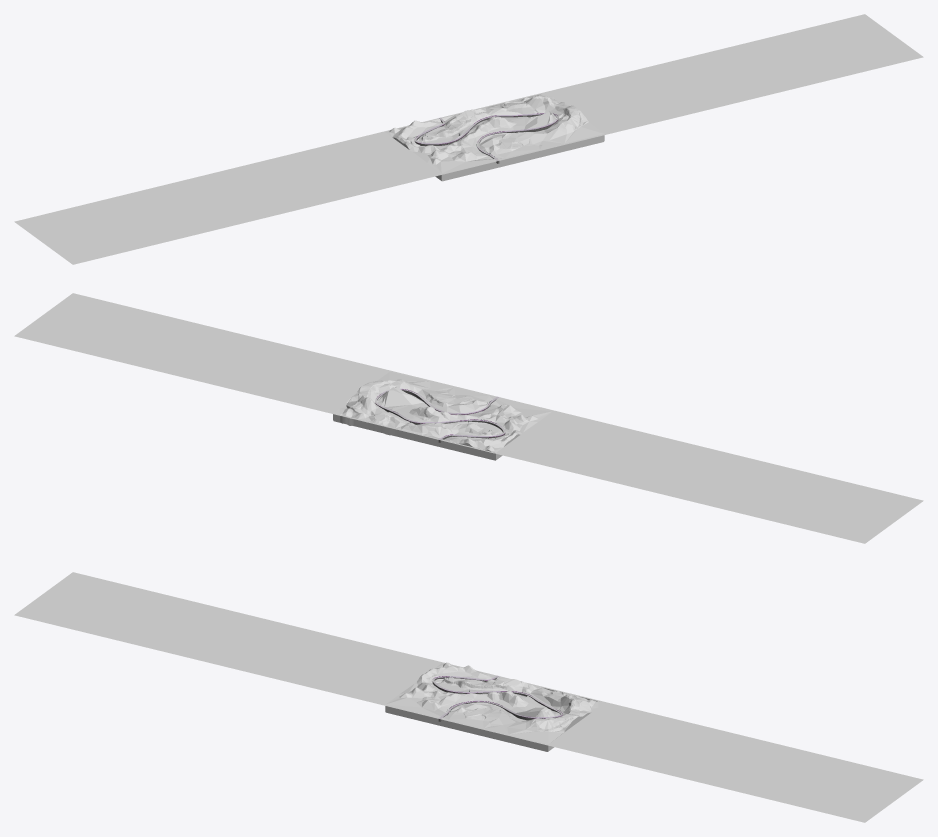
The picture shows the model from 3 angles, top to bottom: view 1: azimuth 30°, elevation 25°; view 2: azimuth 150°, elevation 25°; view 3: azimuth 330°, elevation 25°; orthographic projection.
Visible parts, largest first — view 1: Plane029, Object001; view 2: Plane029, Object001; view 3: Plane029, Object001.
Part boxes in pixels (x1,y1,x2,y2): Plane029: (14, 14, 923, 264); Object001: (385, 92, 604, 180); Plane029: (14, 293, 923, 543); Object001: (333, 372, 552, 459); Plane029: (14, 572, 923, 822); Object001: (385, 662, 603, 751).
Size of the model in its own units: 20000 by 2400 by 438.
